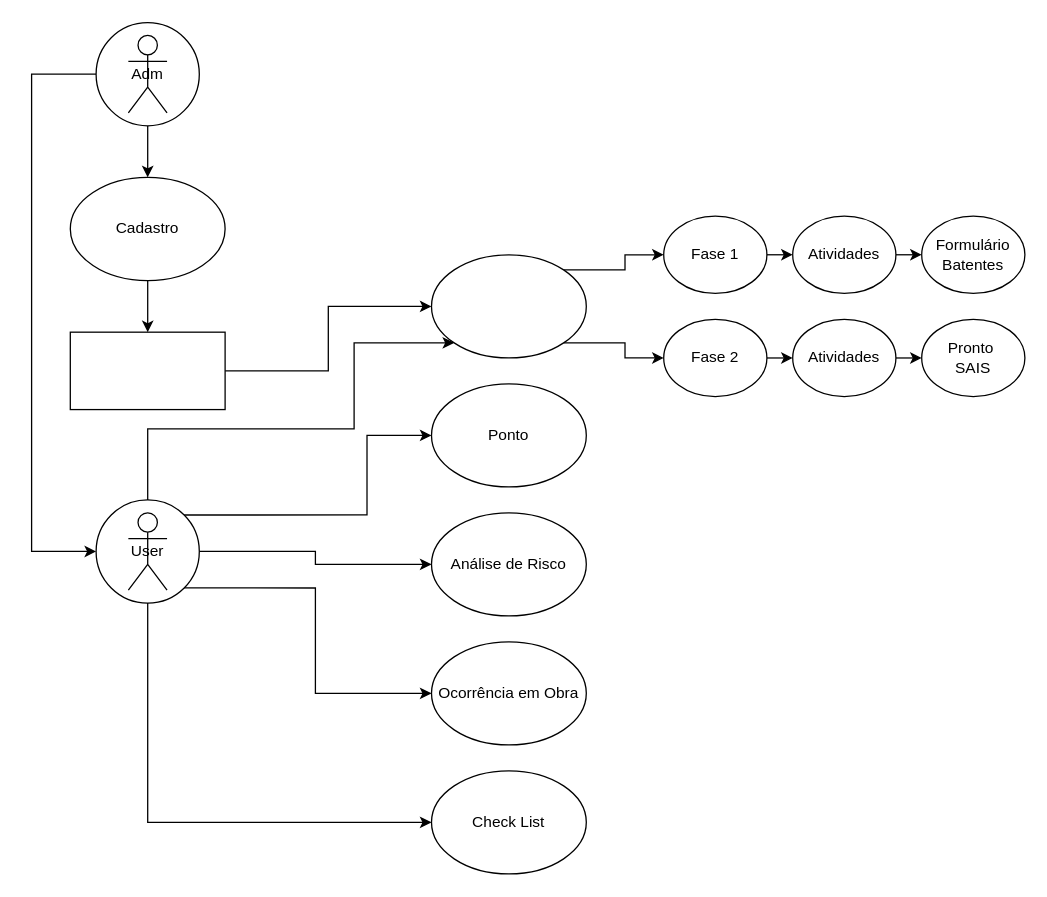
Image size: 1047x897. Some labels were removed from this diagram. The centre of each missing label's shape, as x and y in pixels:
Elevador: (x=147, y=370)
Plano: (x=508, y=305)
